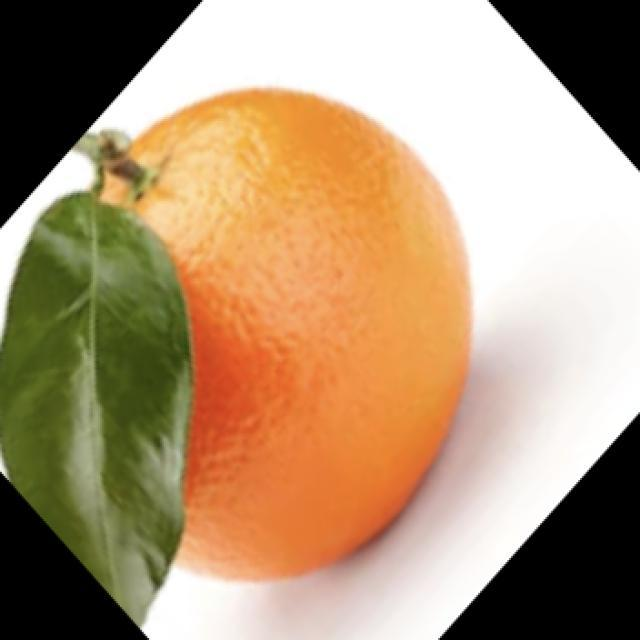Orange: (82, 85, 474, 583)
